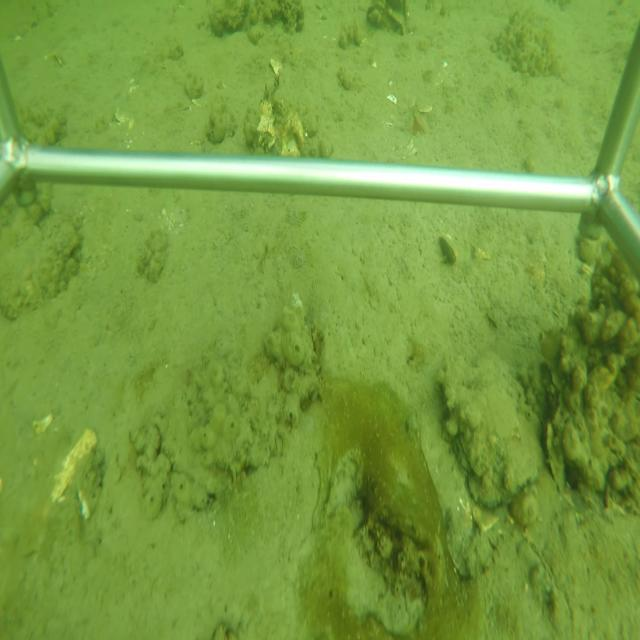Oyster-Closed: (439, 232, 458, 265)
Oyster-Indeterminate: (443, 341, 545, 501), (545, 423, 569, 498)
